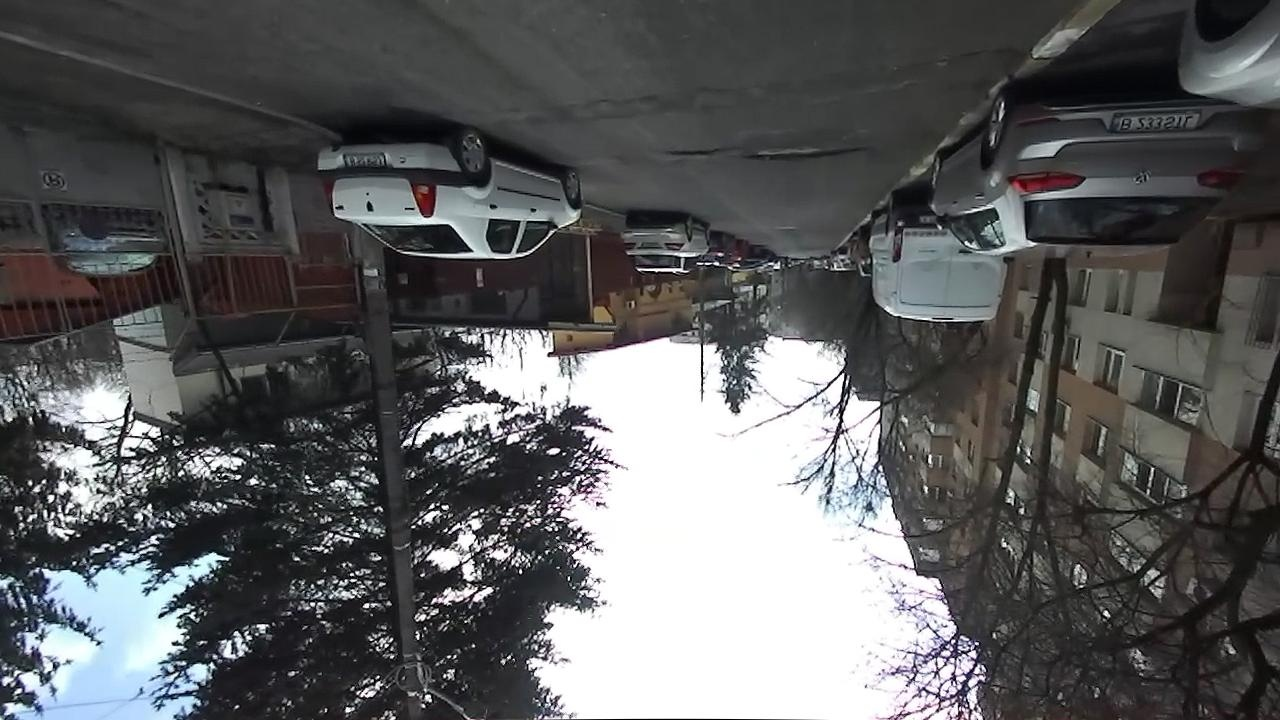pothole: (743, 142, 868, 164), (664, 145, 727, 158)
